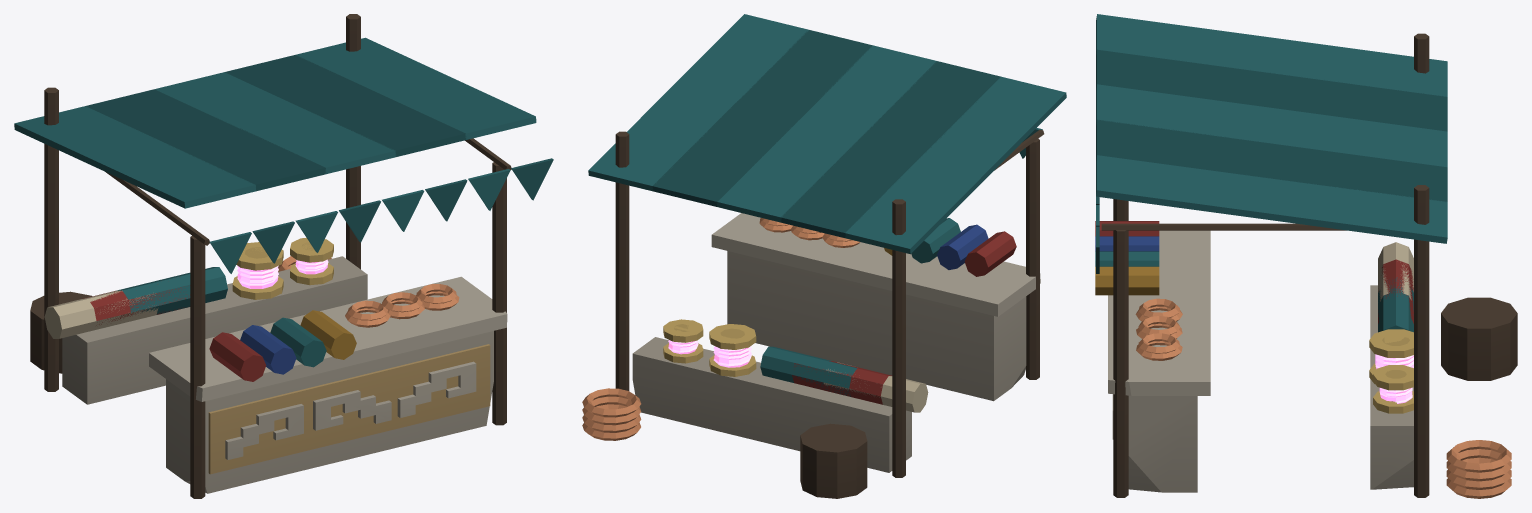
The model's file is zr_market_stall_b.glb.
3 views of the same model, side by side, from view 1: azimuth 30°, elevation 25°; view 2: azimuth 150°, elevation 25°; view 3: azimuth 270°, elevation 25° (orthographic). The views are drawn at different scales.
Parts seen in each view (by area): view 1: zr_market_stall_b; view 2: zr_market_stall_b; view 3: zr_market_stall_b.
Part boxes in pixels (x1,y1,x2,y2): zr_market_stall_b: [14, 14, 553, 498]; zr_market_stall_b: [582, 14, 1066, 498]; zr_market_stall_b: [1095, 14, 1517, 498].
Size of what is drawn, in the model's own units: 3.42 by 2.74 by 3.3.
